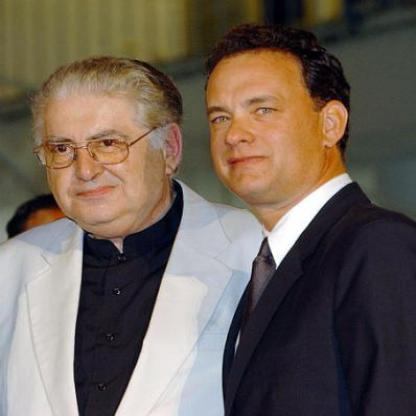face: (36, 63, 167, 233), (196, 39, 327, 201)
